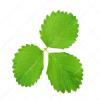Strawberry leaf: (45, 51, 85, 95), (40, 6, 80, 49), (10, 41, 44, 89)
